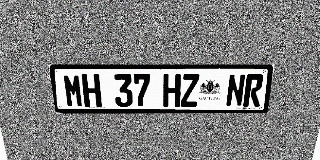3: (114, 74, 133, 107)
7: (132, 74, 150, 107)
H: (81, 74, 102, 107), (163, 74, 181, 107)
M: (62, 74, 84, 107)
N: (225, 74, 246, 106)
R: (243, 74, 264, 106)
Z: (181, 74, 199, 107)
